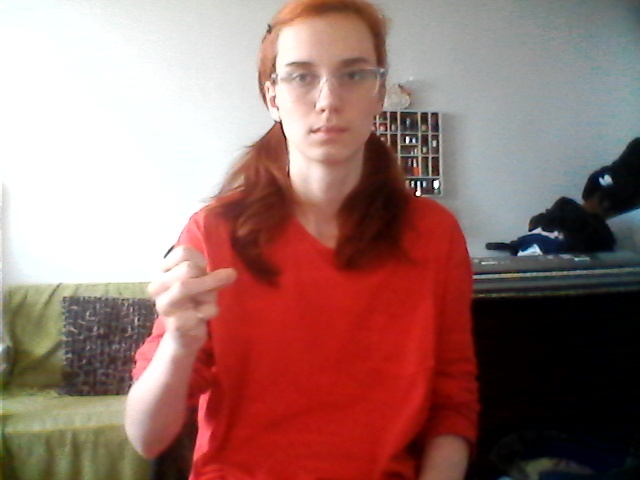r: (140, 242, 250, 352)
